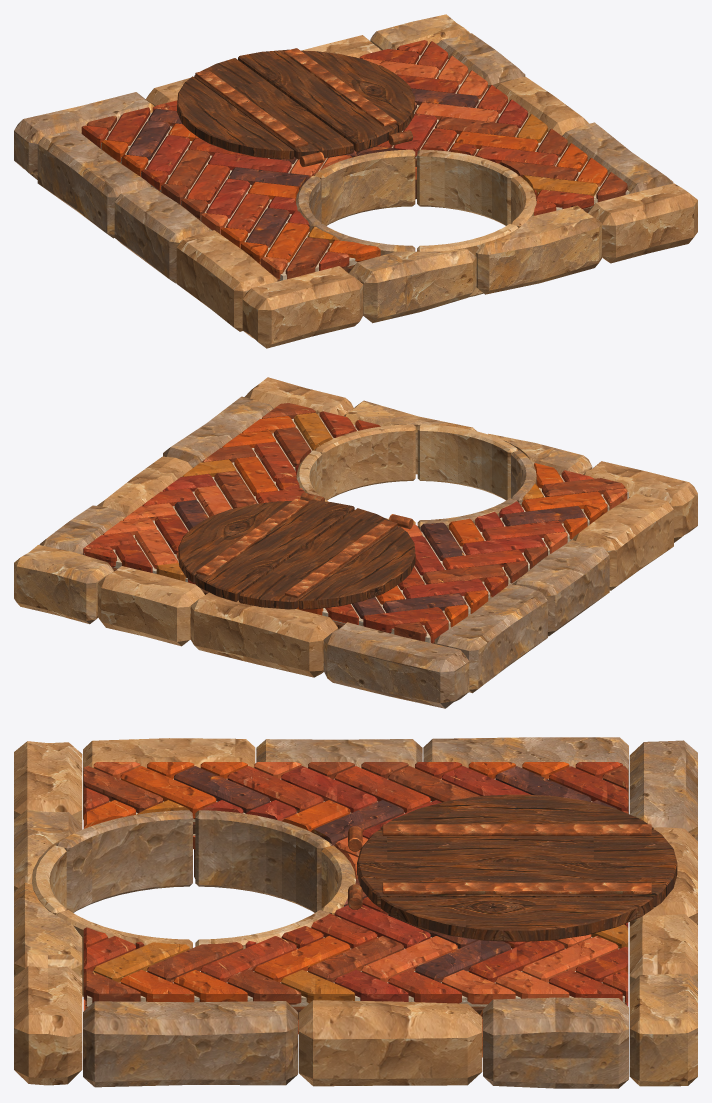
Rendered from floor_hatch__clay_brick.glb.
3 views of the same model, one above another, from view 1: azimuth 30°, elevation 25°; view 2: azimuth 150°, elevation 25°; view 3: azimuth 270°, elevation 25° (orthographic). The views are drawn at different scales.
Visible parts, largest first — view 1: model; view 2: model; view 3: model.
Part boxes in pixels (bbox=[...]): model: bbox=[14, 14, 697, 348]; model: bbox=[14, 377, 697, 708]; model: bbox=[14, 737, 697, 1088].
Size of the model in its own units: 1.99 by 0.2954 by 1.99.
Materials: 15 (15 with a texture image).
